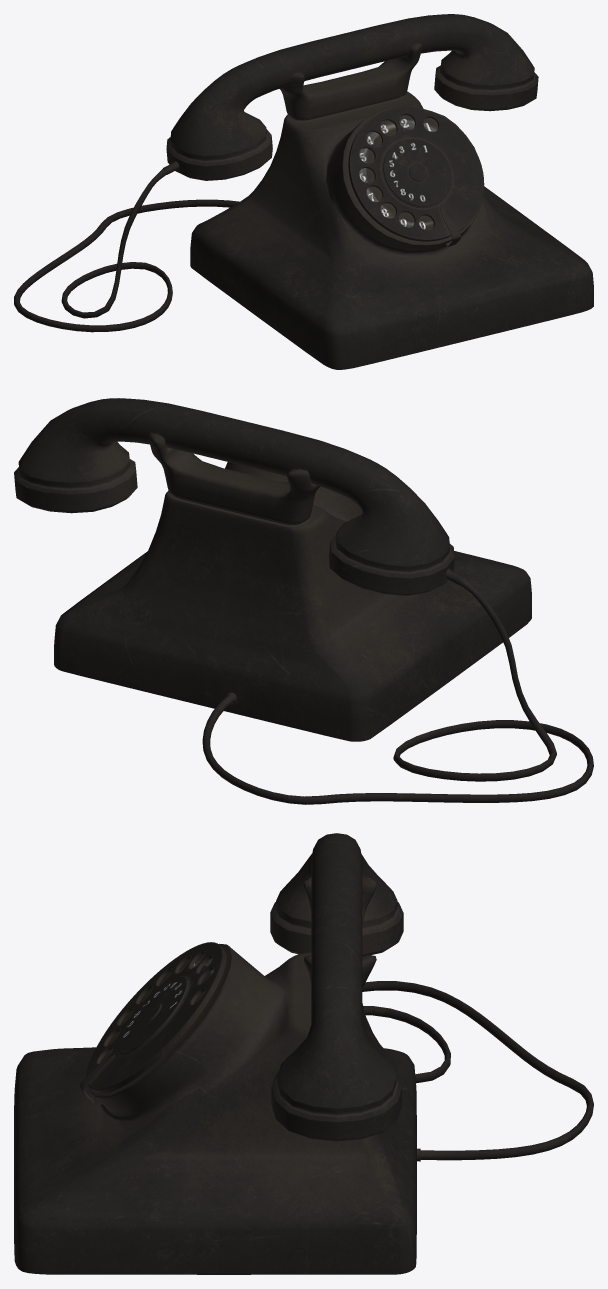
Rendered from old_phone.glb.
The picture shows the model from 3 angles, top to bottom: view 1: azimuth 30°, elevation 25°; view 2: azimuth 150°, elevation 25°; view 3: azimuth 270°, elevation 25°; orthographic projection. The views are drawn at different scales.
Parts seen in each view (by area): view 1: Phone_001; view 2: Phone_001; view 3: Phone_001.
Part boxes in pixels (x1=…): Phone_001: x1=14, y1=14, x2=593, y2=369; Phone_001: x1=14, y1=398, x2=593, y2=804; Phone_001: x1=14, y1=833, x2=593, y2=1274.
Size of the model in its own units: 0.3 by 0.1278 by 0.2284.
1 material, 1 textured.
